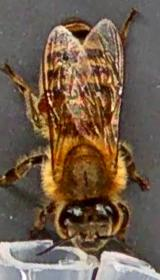varroa_mite: (28, 82, 64, 118)
